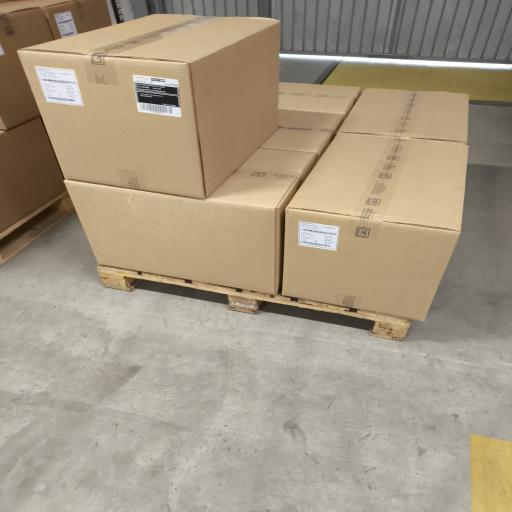pallet: (98, 265, 410, 340), (0, 191, 74, 265)
